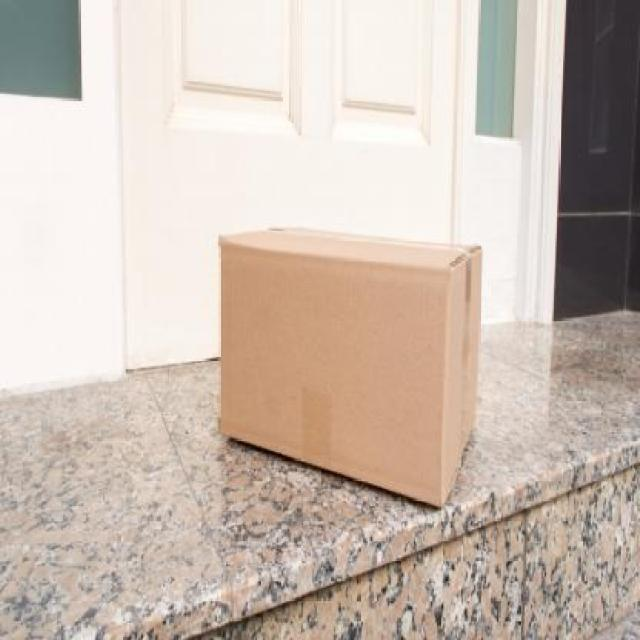cardboxes: (217, 221, 488, 520)
